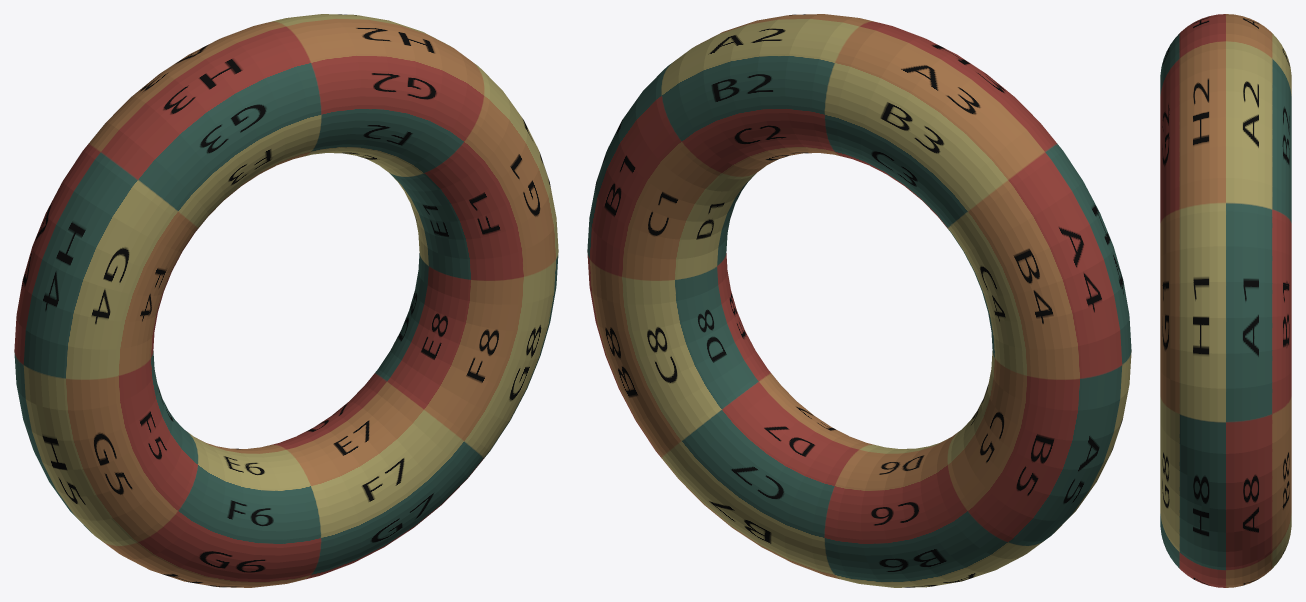
The model's file is texture_torus_R22_r20.glb.
3 renders of one model, left to right at view 1: azimuth 30°, elevation 25°; view 2: azimuth 150°, elevation 25°; view 3: azimuth 270°, elevation 25°, orthographic. The views are drawn at different scales.
Parts seen in each view (by area): view 1: world; view 2: world; view 3: world.
Part boxes in pixels (left/top/right/bottom): world: left=14, top=14, right=558, bottom=587; world: left=587, top=14, right=1131, bottom=587; world: left=1160, top=14, right=1291, bottom=587.
Bounding box in the file's own units: 32 × 31.94 × 7.32.
1 material, 1 textured.
